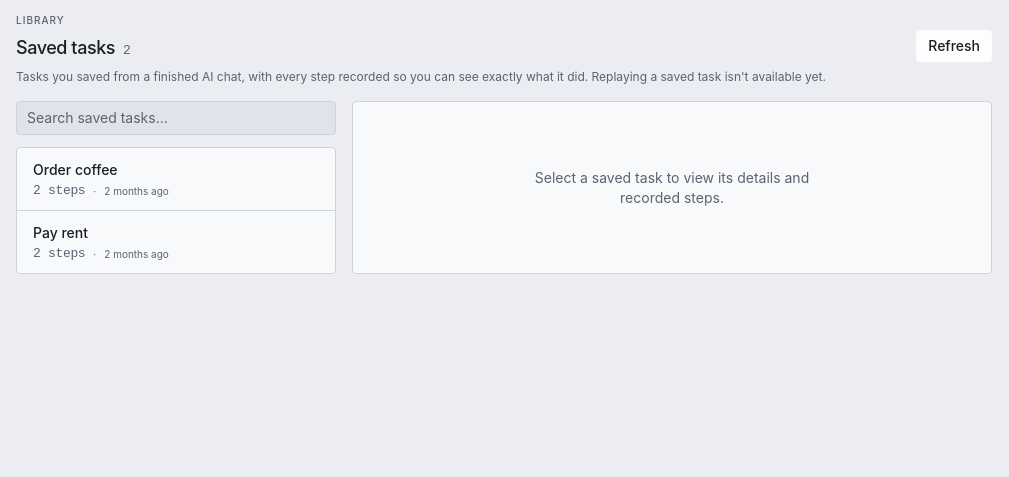
Scenario: RecipesView detail half › CRITICAL re-selecting before the first detail resolves discards the STALE response — the panel must show the recipe the user clicked last
The image size is (1009, 477).
Click the button "Order coffee 2 steps · 2 months ago".
click(75, 170)  # box [17, 148, 335, 210]
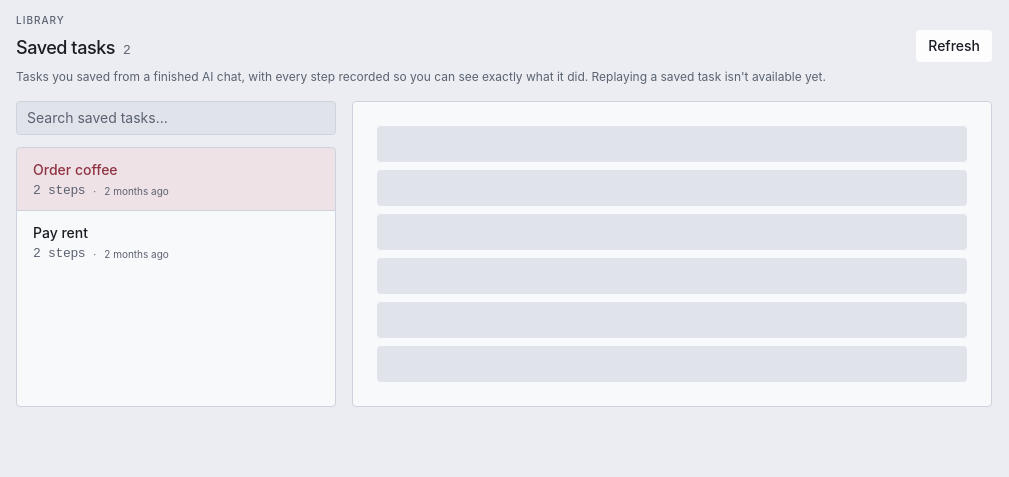
Click the button "Pay rent 2 steps · 2 months ago".
click(60, 232)  # box [17, 211, 335, 273]
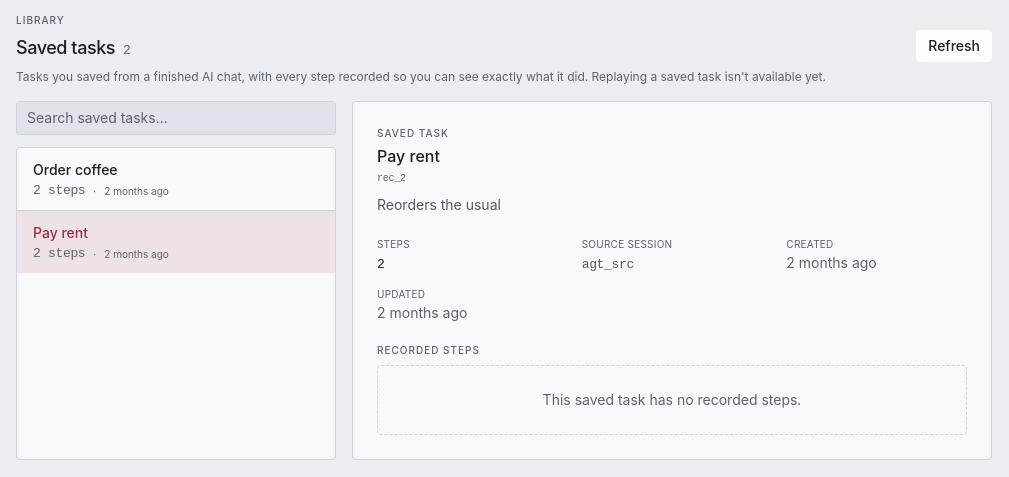
expect the heading "Pay rent" is shown: met, box [377, 146, 440, 166]
